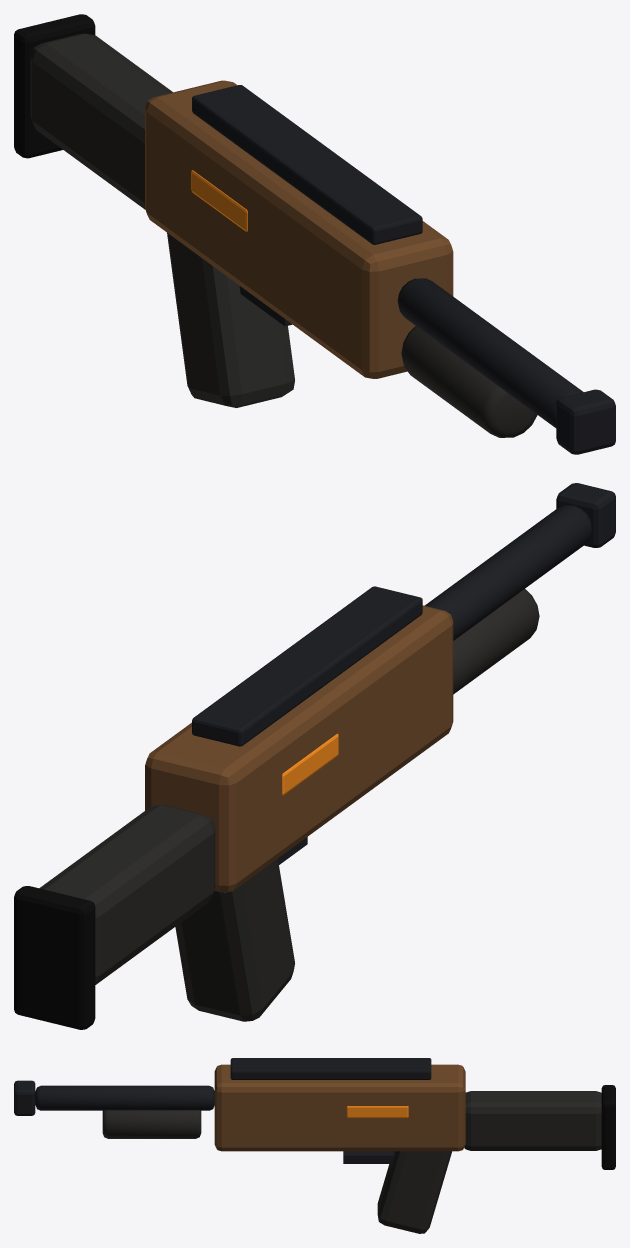
File: Breacher.fbx
3 views of the same model, one above another, from view 1: azimuth 30°, elevation 25°; view 2: azimuth 150°, elevation 25°; view 3: azimuth 270°, elevation 25° (orthographic). The views are drawn at different scales.
Visible parts, largest first — view 1: Part__Metal__6e4a2c, Part__Metal__1f2024, Part__SmoothPlastic__2b2a28, Handle__SmoothPlastic__2b2a28, Part__SmoothPlastic__111111, Muzzle__Metal__1f2024, Part__SmoothPlastic__ff8c1e; view 2: Part__Metal__6e4a2c, Part__SmoothPlastic__2b2a28, Part__Metal__1f2024, Handle__SmoothPlastic__2b2a28, Part__SmoothPlastic__111111, Muzzle__Metal__1f2024, Part__SmoothPlastic__ff8c1e; view 3: Part__Metal__6e4a2c, Part__SmoothPlastic__2b2a28, Part__Metal__1f2024, Handle__SmoothPlastic__2b2a28, Part__SmoothPlastic__111111, Part__SmoothPlastic__ff8c1e, Muzzle__Metal__1f2024.
Part boxes in pixels (left/top/right/bottom): Part__Metal__6e4a2c: left=145, top=80, right=453, bottom=378; Part__Metal__1f2024: left=192, top=85, right=583, bottom=427; Part__SmoothPlastic__2b2a28: left=30, top=33, right=537, bottom=437; Handle__SmoothPlastic__2b2a28: left=167, top=233, right=294, bottom=407; Part__SmoothPlastic__111111: left=14, top=14, right=95, bottom=158; Muzzle__Metal__1f2024: left=556, top=389, right=615, bottom=454; Part__SmoothPlastic__ff8c1e: left=191, top=170, right=247, bottom=231; Part__Metal__6e4a2c: left=145, top=605, right=453, bottom=892; Part__SmoothPlastic__2b2a28: left=39, top=589, right=539, bottom=984; Part__Metal__1f2024: left=192, top=505, right=591, bottom=864; Handle__SmoothPlastic__2b2a28: left=175, top=858, right=294, bottom=1021; Part__SmoothPlastic__111111: left=14, top=886, right=95, bottom=1029; Muzzle__Metal__1f2024: left=556, top=483, right=615, bottom=547; Part__SmoothPlastic__ff8c1e: left=282, top=733, right=338, bottom=795; Part__Metal__6e4a2c: left=214, top=1064, right=465, bottom=1151; Part__SmoothPlastic__2b2a28: left=102, top=1091, right=601, bottom=1150; Part__Metal__1f2024: left=35, top=1058, right=431, bottom=1163; Handle__SmoothPlastic__2b2a28: left=377, top=1151, right=451, bottom=1233; Part__SmoothPlastic__111111: left=601, top=1085, right=615, bottom=1169; Part__SmoothPlastic__ff8c1e: left=346, top=1106, right=408, bottom=1118; Muzzle__Metal__1f2024: left=14, top=1080, right=35, bottom=1115.
Bounding box in the file's own units: 0.33 × 1.01 × 3.36.
